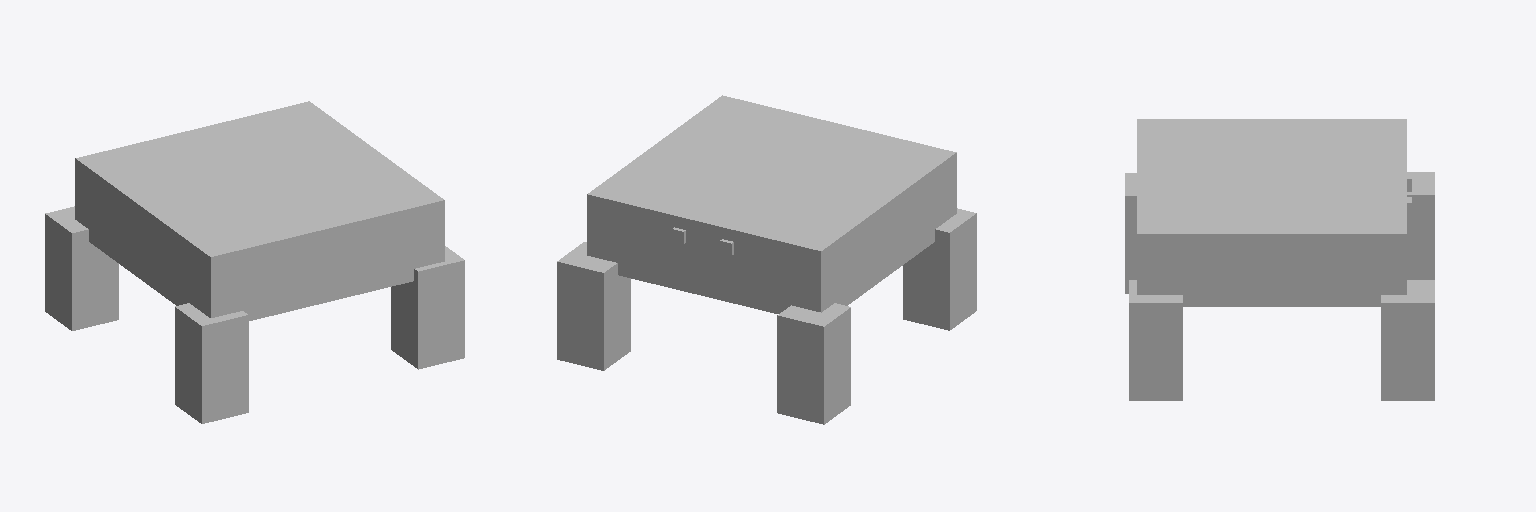
The model's file is CrabBody.obj.
The picture shows the model from 3 angles: view 1: azimuth 30°, elevation 25°; view 2: azimuth 150°, elevation 25°; view 3: azimuth 270°, elevation 25°; orthographic projection.
Visible parts, largest first — view 1: Cube.002_Cube.003; view 2: Cube.002_Cube.003; view 3: Cube.002_Cube.003.
Part boxes in pixels (left/top/right/bottom): Cube.002_Cube.003: left=45, top=101, right=464, bottom=423; Cube.002_Cube.003: left=557, top=95, right=976, bottom=424; Cube.002_Cube.003: left=1125, top=119, right=1434, bottom=400.
Bounding box in the file's own units: 2.28 × 1.3 × 2.29.